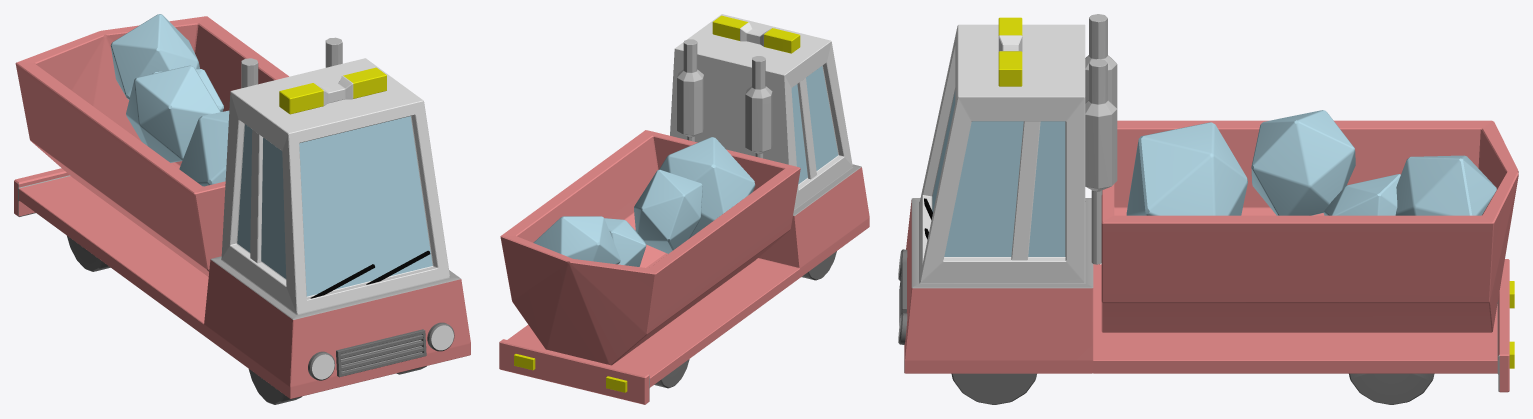
Rendered from Truck.fbx.
The picture shows the model from 3 angles, left to right: view 1: azimuth 30°, elevation 25°; view 2: azimuth 150°, elevation 25°; view 3: azimuth 270°, elevation 25°; orthographic projection. The views are drawn at different scales.
Parts seen in each view (by area): view 1: pCube8; view 2: pCube8; view 3: pCube8.
Boxes of the visible parts, x1,y1,x2,y2 form: pCube8: (14, 14, 470, 404); pCube8: (499, 14, 869, 404); pCube8: (898, 14, 1518, 404).
Bounding box in the file's own units: 2.53 × 3.75 × 6.48.
